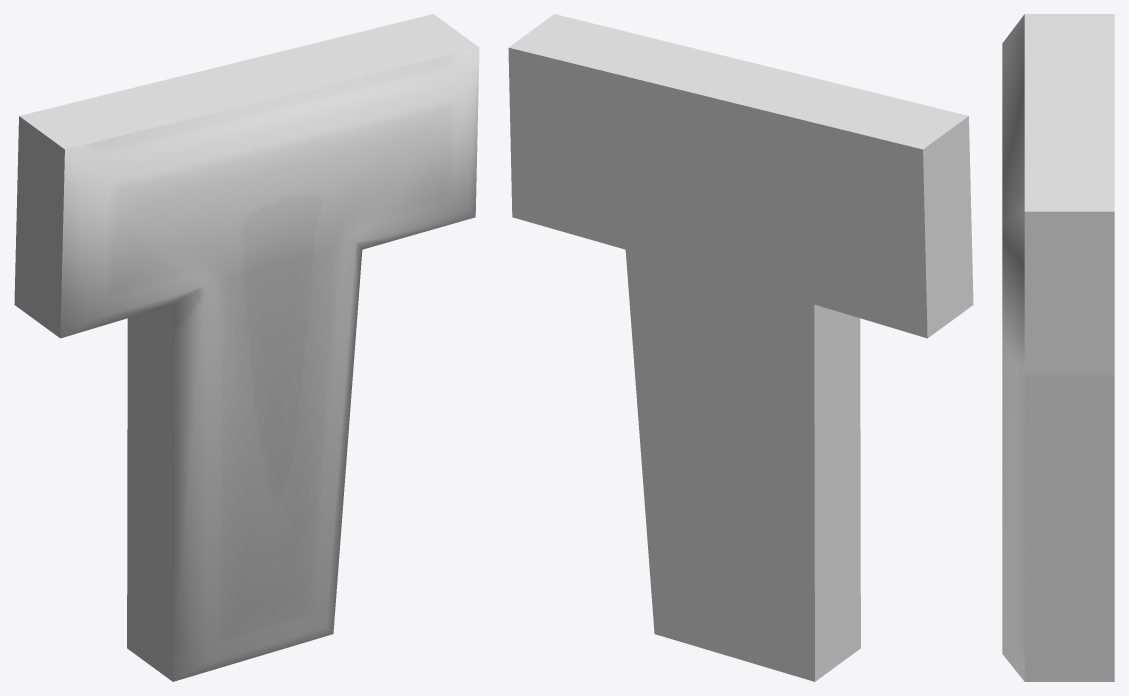
File: LettersStylized01_T.FBX
The picture shows the model from 3 angles, left to right: view 1: azimuth 30°, elevation 25°; view 2: azimuth 150°, elevation 25°; view 3: azimuth 270°, elevation 25°; orthographic projection.
Visible parts, largest first — view 1: LettersStylized01_T; view 2: LettersStylized01_T; view 3: LettersStylized01_T.
Boxes of the visible parts, box(x1,y1,x2,y2) form: LettersStylized01_T: box(14, 14, 479, 681); LettersStylized01_T: box(508, 14, 973, 681); LettersStylized01_T: box(1002, 14, 1114, 681).
Size of what is drawn, in the model's own units: 0.3583 by 0.4571 by 0.085.
